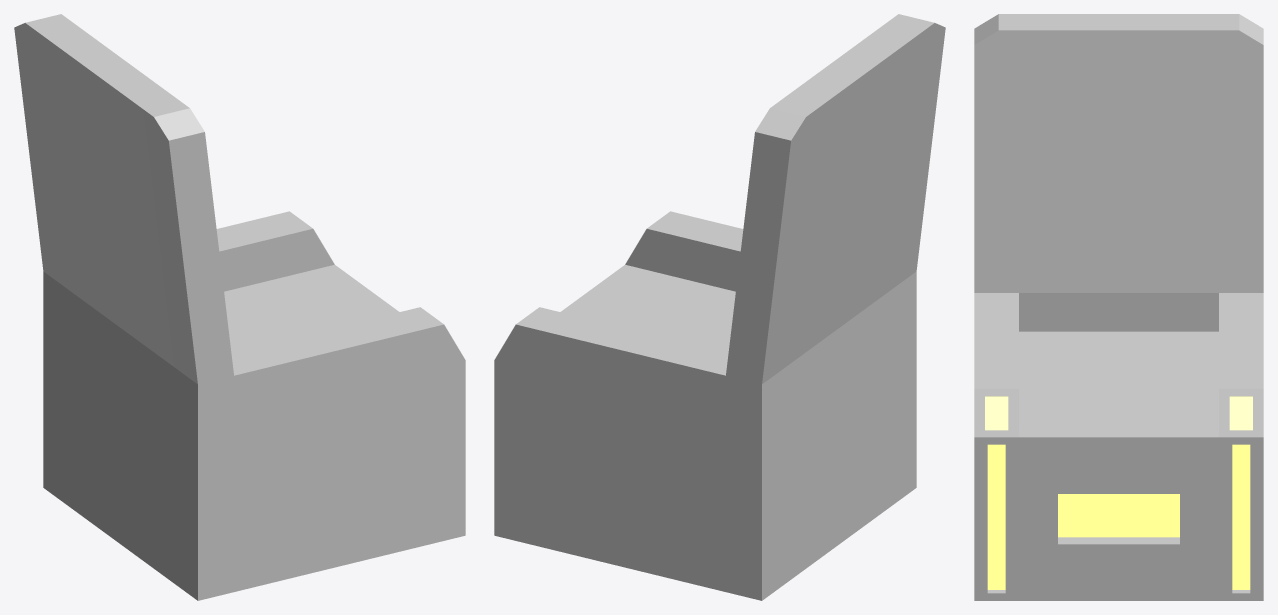
Rendered from chair.fbx.
3 views of the same model, side by side, from view 1: azimuth 30°, elevation 25°; view 2: azimuth 150°, elevation 25°; view 3: azimuth 270°, elevation 25° (orthographic). The views are drawn at different scales.
Parts seen in each view (by area): view 1: Cube; view 2: Cube; view 3: Cube.
Part boxes in pixels (box(x1,y1,x2,y2)): Cube: box(14, 14, 465, 600); Cube: box(494, 14, 945, 600); Cube: box(974, 14, 1263, 600).
Size of the model in its own units: 89.3 by 138 by 80.
